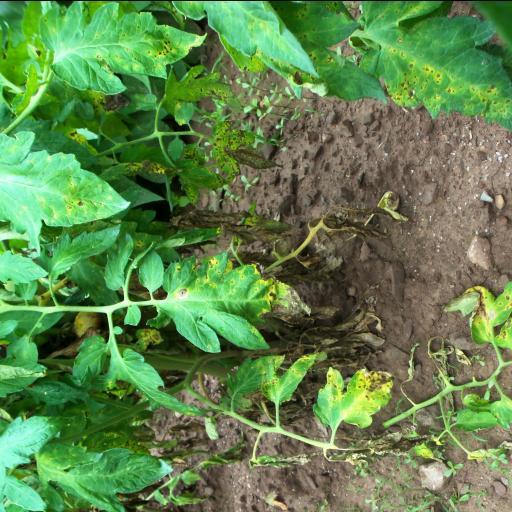disease_tomato: (352, 18, 512, 132), (0, 130, 139, 255), (159, 250, 313, 354), (50, 0, 210, 100), (31, 441, 174, 512), (106, 346, 224, 416), (312, 366, 396, 428), (440, 279, 512, 351), (44, 222, 122, 278), (210, 118, 282, 177), (159, 63, 247, 110), (172, 158, 236, 206), (260, 351, 318, 403), (226, 352, 286, 394), (101, 232, 135, 290), (98, 158, 181, 180), (136, 246, 164, 292)
